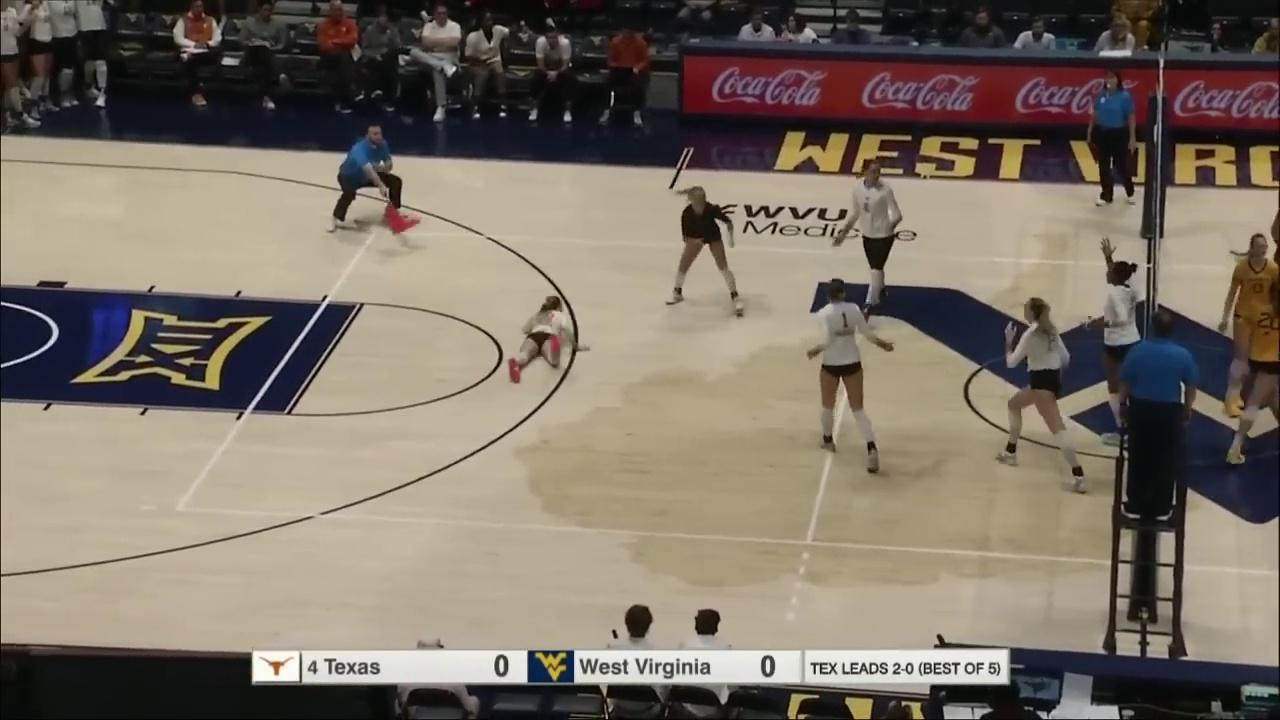player: (980, 295, 1116, 476), (805, 278, 897, 474), (1086, 237, 1142, 450), (1219, 232, 1280, 418), (836, 161, 903, 321), (667, 186, 745, 317), (1229, 278, 1280, 461), (510, 294, 593, 382)
refree: (1118, 311, 1197, 517), (327, 125, 422, 232), (1091, 70, 1138, 204)
